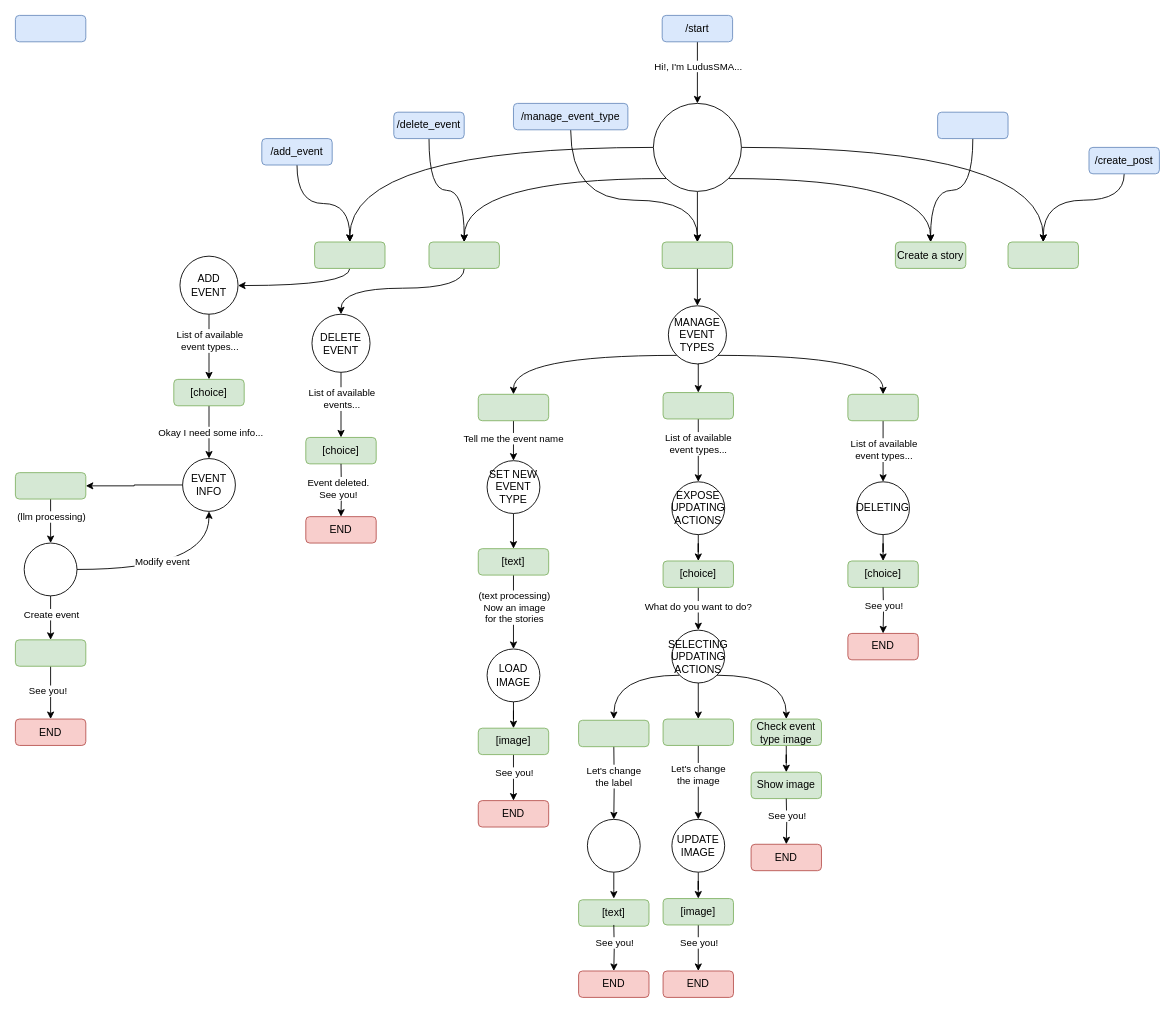
Some shapes in this 1175 by 1013 pixel diagram are drawn without their labels. Here are the shapes that lost their labels. From the top down, the box of each, then its label:
(15, 15, 86, 42): /help
(937, 111, 1008, 139): /create_story
(653, 103, 741, 191): SELECTING ACTION
(314, 241, 385, 268): Add an event
(428, 241, 499, 268): Delete an event
(661, 241, 733, 268): Update event types
(1007, 241, 1078, 268): Create a post
(477, 393, 549, 421): Add event type
(662, 392, 733, 419): Update event type
(847, 393, 918, 421): Delete event type
(15, 472, 86, 499): [text] / [audio]
(23, 542, 77, 596): RECAP
(15, 639, 86, 666): Done
(578, 719, 649, 747): Update event type label
(662, 718, 733, 745): Update event type image
(587, 818, 640, 872): UPDATE LABEL
